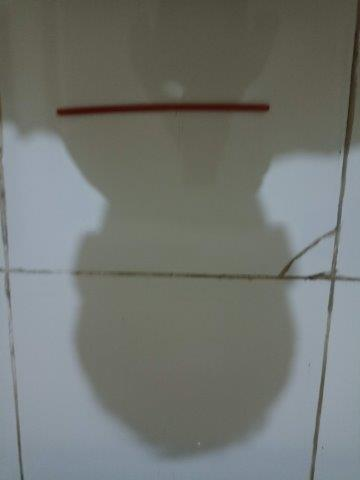sedotan: (56, 103, 269, 116)
